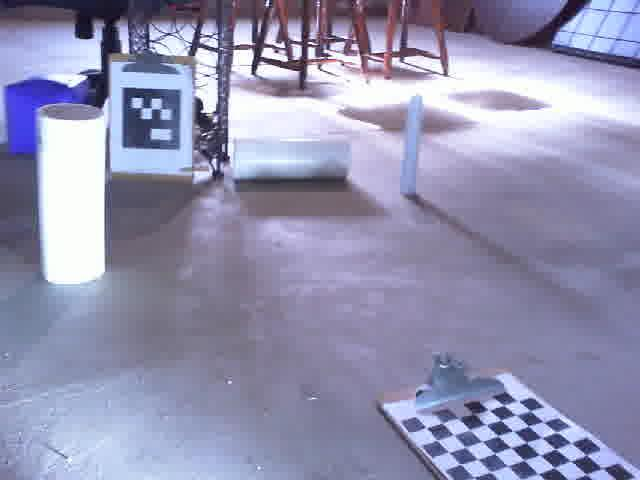coral: (31, 101, 115, 288), (228, 130, 356, 191)
